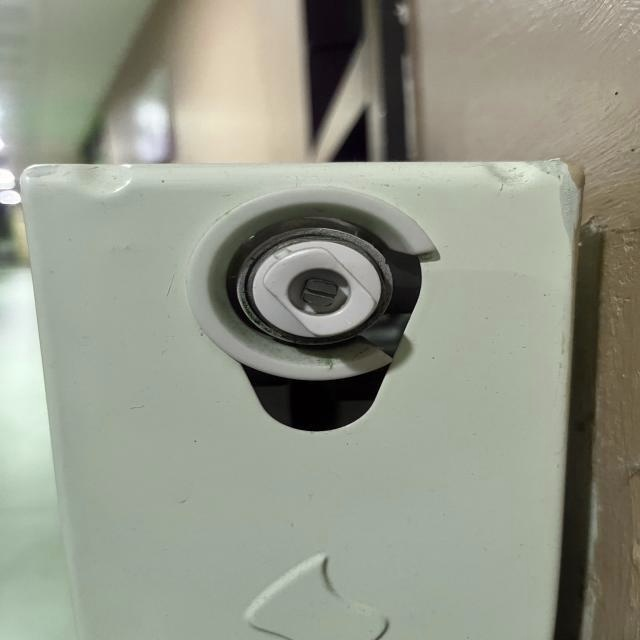duz: (302, 278, 338, 306)
